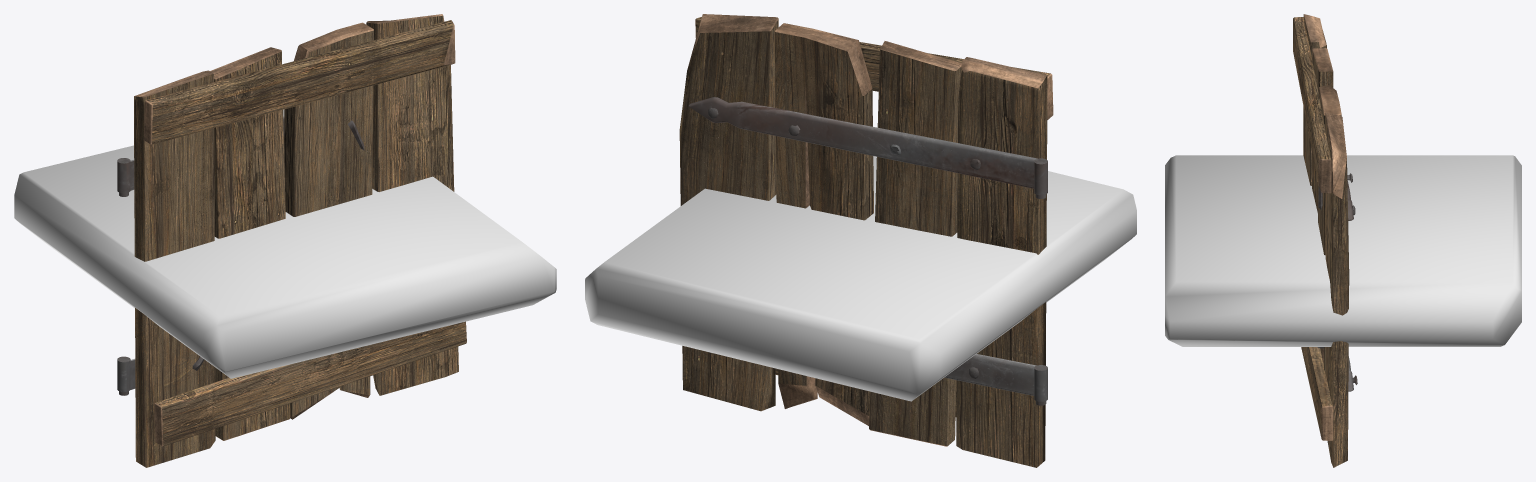
File: SM_Wall_Window_B_P4_.fbx
3 renders of one model, left to right at view 1: azimuth 30°, elevation 25°; view 2: azimuth 150°, elevation 25°; view 3: azimuth 270°, elevation 25°, orthographic. The views are drawn at different scales.
Parts seen in each view (by area): view 1: SM_Wall_Window_B_P4_, SM_Wall_Window_B_P4__ConvexHulls; view 2: SM_Wall_Window_B_P4_, SM_Wall_Window_B_P4__ConvexHulls; view 3: SM_Wall_Window_B_P4__ConvexHulls, SM_Wall_Window_B_P4_.
Boxes of the visible parts, left/top/right/bottom form: SM_Wall_Window_B_P4_: left=117, top=14, right=466, bottom=467; SM_Wall_Window_B_P4__ConvexHulls: left=14, top=109, right=556, bottom=378; SM_Wall_Window_B_P4_: left=679, top=14, right=1053, bottom=467; SM_Wall_Window_B_P4__ConvexHulls: left=585, top=156, right=1136, bottom=401; SM_Wall_Window_B_P4__ConvexHulls: left=1165, top=155, right=1521, bottom=346; SM_Wall_Window_B_P4_: left=1293, top=14, right=1357, bottom=467.
Size of the model in its own units: 0.892 by 0.9235 by 0.9256.
